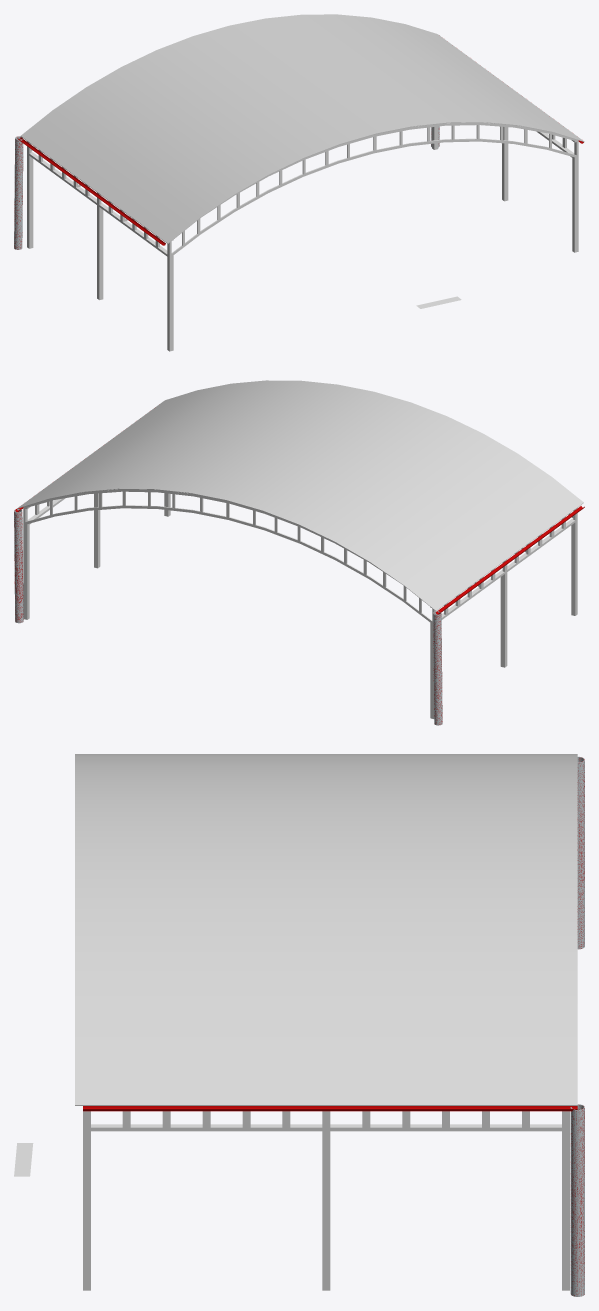
The model's file is naves10x6.glb.
3 renders of one model, top to bottom at view 1: azimuth 30°, elevation 25°; view 2: azimuth 150°, elevation 25°; view 3: azimuth 270°, elevation 25°, orthographic. The views are drawn at different scales.
Visible parts, largest first — view 1: instance_135, instance_46, instance_138.001, instance_45, instance_15, instance_137, instance_9, instance_10, instance_12, instance_11, instance_14; view 2: instance_135, instance_119, instance_138.001, instance_139.001, instance_120, instance_15, instance_137, instance_12, instance_13, instance_10, instance_14; view 3: instance_135, instance_39, instance_136, instance_139.001, instance_138.001, instance_14, instance_13, instance_9.
Boxes of the visible parts, bbox=[...] form: instance_135: bbox=[21, 14, 584, 243]; instance_46: bbox=[169, 138, 577, 257]; instance_138.001: bbox=[14, 136, 23, 249]; instance_45: bbox=[210, 122, 576, 211]; instance_15: bbox=[27, 151, 173, 257]; instance_137: bbox=[17, 137, 165, 245]; instance_9: bbox=[572, 158, 578, 252]; instance_10: bbox=[167, 257, 173, 351]; instance_12: bbox=[97, 205, 103, 300]; instance_11: bbox=[27, 154, 33, 248]; instance_14: bbox=[502, 127, 508, 201]; instance_135: bbox=[17, 380, 583, 610]; instance_119: bbox=[23, 505, 433, 624]; instance_138.001: bbox=[433, 611, 442, 725]; instance_139.001: bbox=[14, 509, 23, 623]; instance_120: bbox=[23, 489, 393, 578]; instance_15: bbox=[430, 518, 577, 625]; instance_137: bbox=[435, 506, 584, 614]; instance_12: bbox=[500, 572, 507, 667]; instance_13: bbox=[23, 525, 29, 619]; instance_10: bbox=[571, 521, 577, 615]; instance_14: bbox=[94, 493, 100, 568]; instance_135: bbox=[75, 754, 577, 1105]; instance_39: bbox=[85, 1124, 567, 1131]; instance_136: bbox=[83, 1106, 577, 1111]; instance_139.001: bbox=[570, 1104, 584, 1296]; instance_138.001: bbox=[577, 756, 584, 949]; instance_14: bbox=[322, 1131, 330, 1290]; instance_13: bbox=[562, 1131, 569, 1290]; instance_9: bbox=[83, 1131, 90, 1290].
Size of the model in its own units: 10.51 by 4.04 by 7.15.
